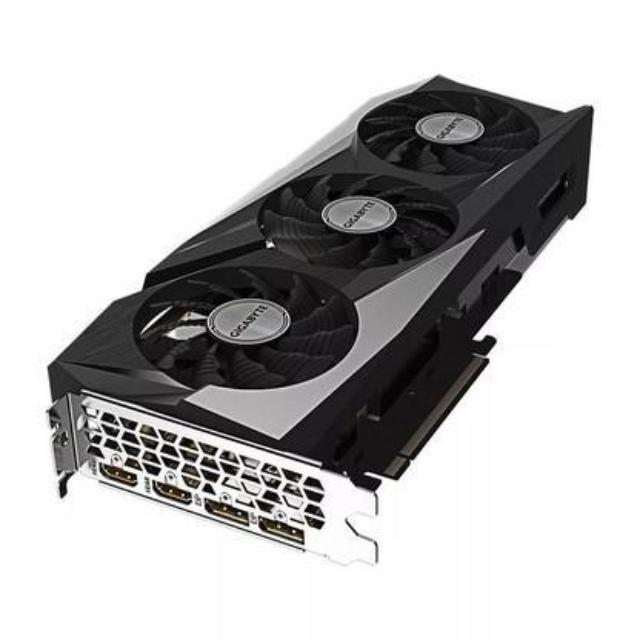GPU: (46, 70, 600, 495)
